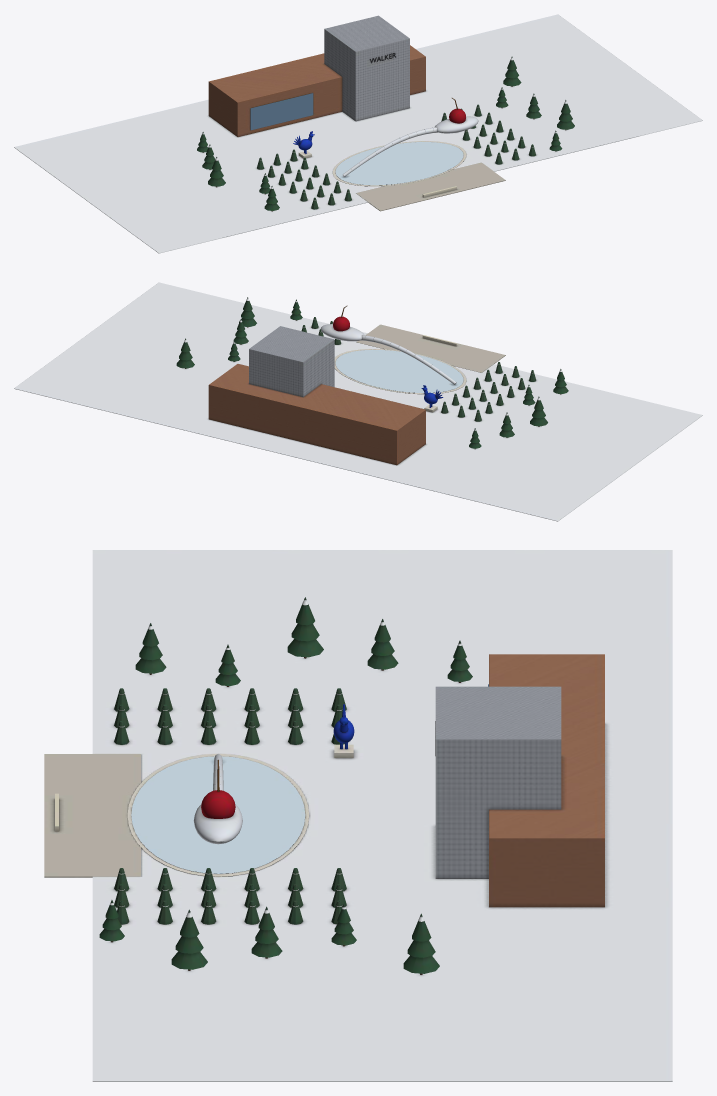
File: cuchara_cereza.glb
3 renders of one model, top to bottom at view 1: azimuth 30°, elevation 25°; view 2: azimuth 150°, elevation 25°; view 3: azimuth 270°, elevation 25°, orthographic. The views are drawn at different scales.
Parts seen in each view (by area): view 1: cuchara_cereza; view 2: cuchara_cereza; view 3: cuchara_cereza.
Part boxes in pixels (<box>): cuchara_cereza: <box>14,14,702,253</box>; cuchara_cereza: <box>14,282,702,521</box>; cuchara_cereza: <box>44,550,672,1081</box>.
Size of the model in its own units: 260 by 32 by 130.
Materials: 1 (1 with a texture image).
